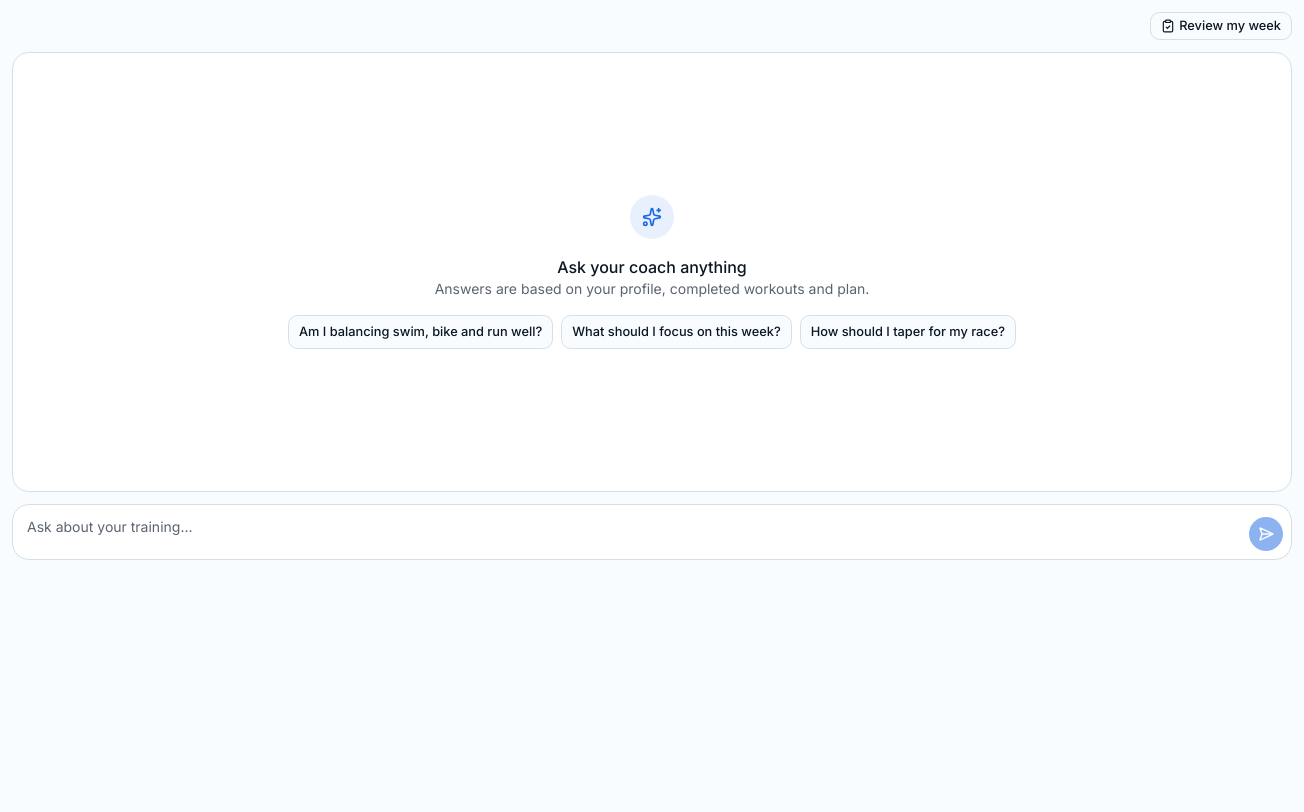
Scenario: CoachChat › sends the question with the athlete's local date
Type "hello coach" into the text box with placeholder "Ask about your training...". click: (652, 532)
box: [12, 504, 1292, 560]
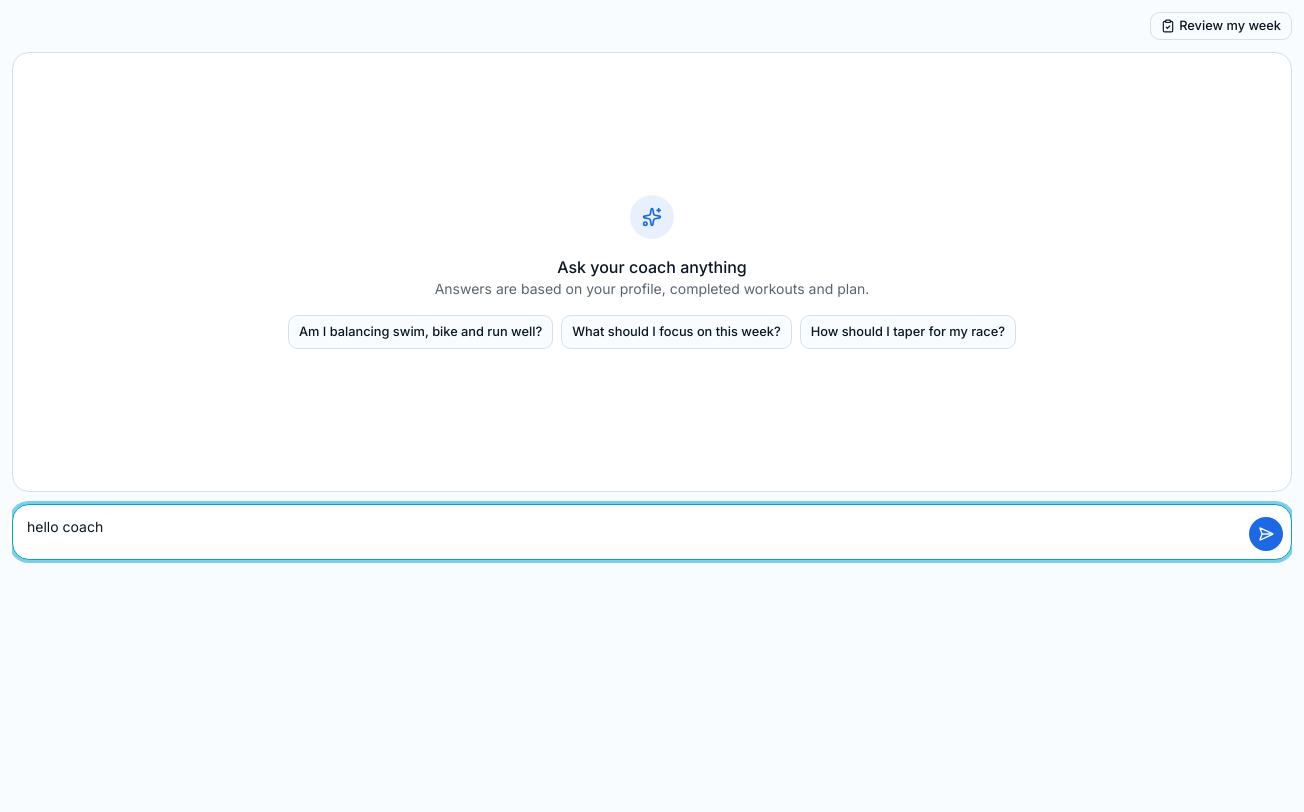
Click the button named "Send". click: (1266, 534)
box: [1248, 516, 1284, 552]
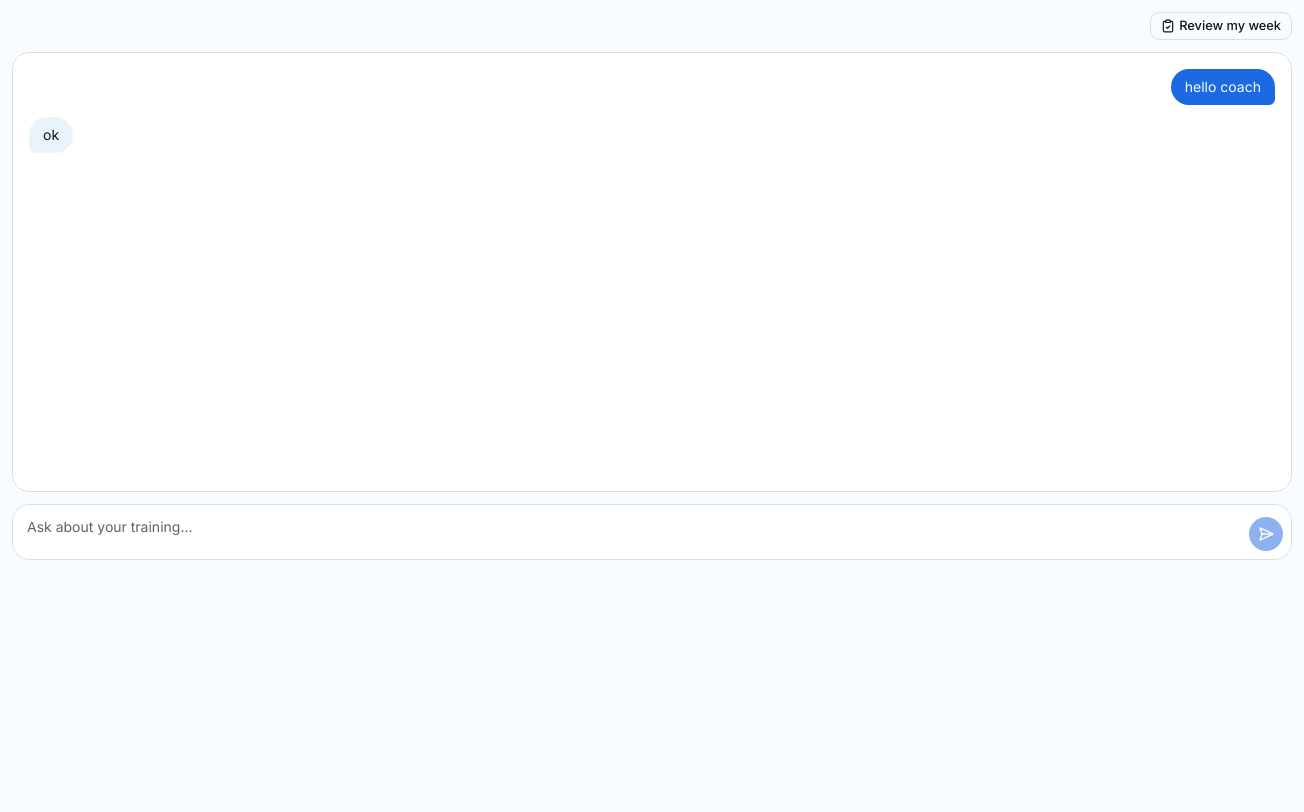
Expected: the text "ok" is shown, [43, 126, 59, 143]
Expected: the text "hello coach" is shown, [1171, 69, 1275, 105]
